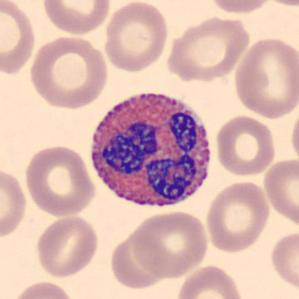Eosinophil: (83, 81, 218, 218)
RBC: (26, 34, 110, 111), (164, 12, 252, 83), (128, 208, 211, 280), (231, 34, 298, 120), (23, 143, 98, 218), (101, 0, 171, 73), (204, 179, 272, 254), (33, 213, 101, 279), (213, 113, 277, 178), (111, 234, 170, 287), (0, 0, 37, 77), (261, 154, 298, 230), (39, 0, 113, 36), (174, 263, 246, 299), (0, 166, 29, 241), (267, 229, 299, 294), (10, 279, 76, 299), (205, 0, 276, 15), (288, 103, 299, 167), (257, 0, 297, 7)
